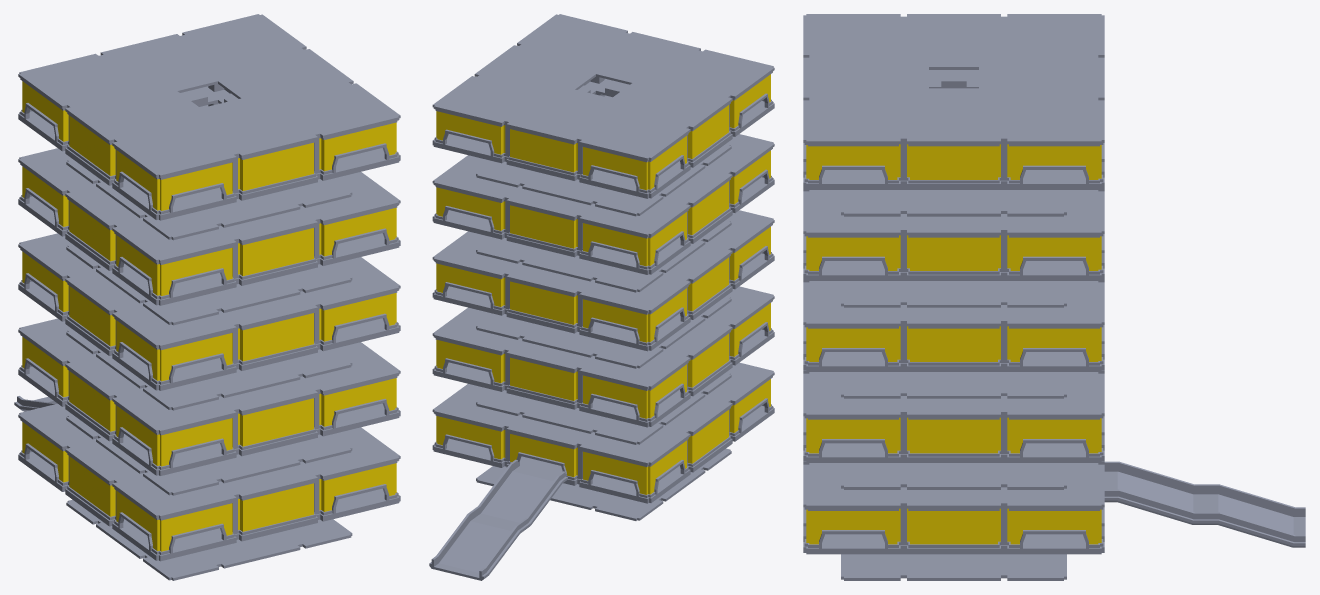
Rendered from mtower_01.glb.
3 views of the same model, side by side, from view 1: azimuth 30°, elevation 25°; view 2: azimuth 150°, elevation 25°; view 3: azimuth 270°, elevation 25° (orthographic). The views are drawn at different scales.
Visible parts, largest first — view 1: mass; view 2: mass; view 3: mass.
Boxes of the visible parts, x1,y1,x2,y2 form: mass: (14, 14, 400, 580); mass: (429, 14, 774, 580); mass: (803, 14, 1305, 580).
Size of what is drawn, in the model's own units: 48 by 80 by 80.
